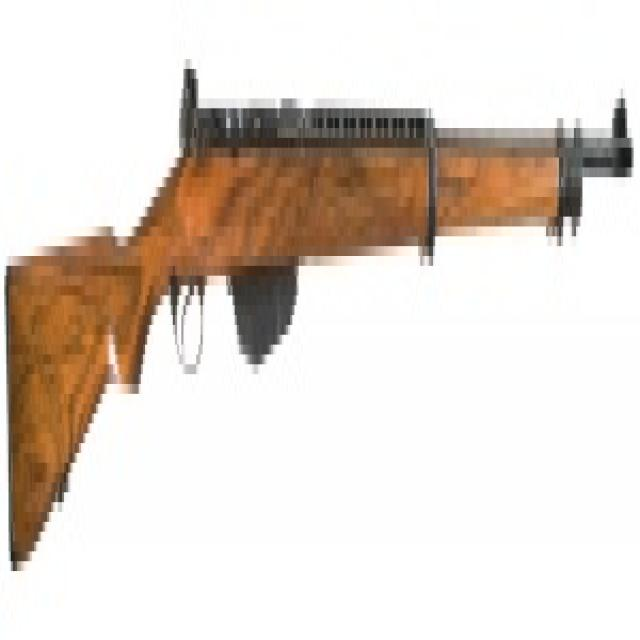rifle: (4, 50, 638, 572)
